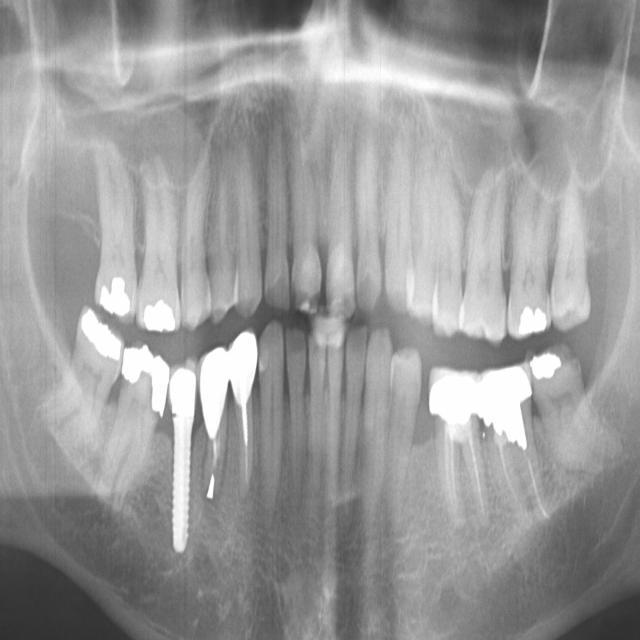infected-teeth: (476, 370, 560, 546), (423, 365, 495, 537), (197, 346, 234, 527), (232, 328, 266, 517)
